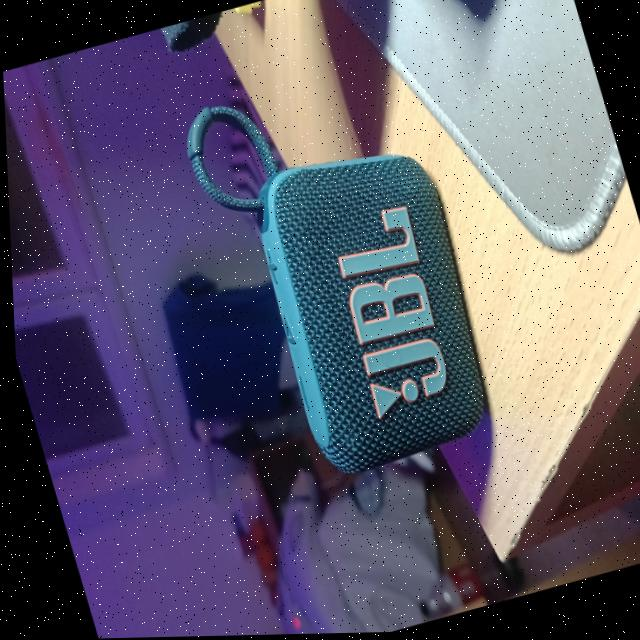column JBL: (169, 48, 511, 501)
